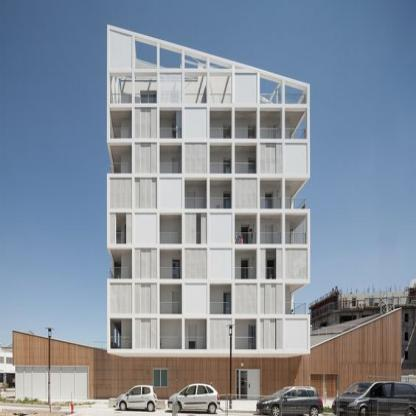Balcony: (108, 162, 132, 174), (160, 232, 182, 245), (210, 128, 233, 140), (109, 267, 131, 279), (235, 162, 257, 174), (160, 162, 182, 174), (185, 197, 207, 209), (210, 162, 232, 174), (210, 197, 232, 209), (260, 197, 282, 209), (285, 302, 307, 314), (235, 267, 257, 279), (160, 267, 182, 279), (210, 302, 232, 314), (160, 302, 182, 314), (160, 337, 182, 349), (235, 337, 257, 349), (185, 337, 207, 349), (285, 128, 308, 139), (235, 128, 258, 139), (260, 128, 283, 139), (285, 197, 306, 209), (111, 337, 132, 349), (160, 128, 182, 139), (110, 128, 132, 139), (110, 93, 132, 104), (135, 93, 157, 104), (185, 93, 207, 104), (209, 93, 231, 104), (260, 93, 281, 104), (285, 93, 305, 104), (116, 233, 126, 244)
Building Outline: (13, 24, 402, 401)
Door: (311, 375, 338, 398), (247, 370, 260, 399), (154, 370, 168, 386), (249, 326, 257, 349), (173, 292, 181, 313), (224, 292, 232, 313), (189, 327, 196, 349), (267, 260, 275, 279), (241, 260, 249, 279), (223, 125, 231, 143), (125, 225, 133, 243), (224, 192, 232, 210), (187, 192, 195, 210), (223, 158, 231, 176), (241, 226, 249, 244), (173, 260, 180, 279), (172, 158, 179, 176), (248, 125, 255, 143), (173, 124, 180, 142), (249, 159, 256, 177), (264, 194, 271, 212)
Facade: (13, 23, 402, 401)
Floor Slab: (107, 350, 310, 353), (107, 104, 310, 107), (107, 139, 310, 142), (107, 174, 310, 177), (107, 209, 310, 212), (107, 245, 310, 248), (107, 280, 310, 283), (107, 315, 310, 318)
Glass Wall: (15, 367, 88, 400), (236, 370, 246, 399)
Window: (285, 283, 310, 315), (285, 177, 310, 209), (107, 142, 132, 173), (107, 249, 132, 280), (135, 36, 157, 69), (235, 143, 258, 174), (260, 108, 283, 139), (285, 108, 308, 139), (210, 143, 233, 174), (260, 178, 283, 209), (109, 73, 132, 104), (134, 73, 157, 104), (185, 73, 208, 104), (210, 73, 233, 104), (235, 108, 258, 139), (210, 108, 233, 139), (160, 108, 183, 139), (109, 108, 132, 139), (160, 143, 183, 174), (210, 178, 233, 209), (185, 178, 208, 209), (260, 214, 283, 245), (160, 214, 183, 245), (160, 249, 183, 280), (235, 249, 258, 280), (235, 214, 258, 245), (210, 284, 233, 315), (160, 284, 183, 315), (235, 319, 258, 350), (285, 214, 308, 245), (260, 73, 282, 104), (160, 319, 182, 350), (111, 319, 132, 350), (159, 44, 182, 69), (285, 80, 307, 104), (184, 52, 207, 69), (265, 249, 276, 280), (116, 214, 126, 244), (141, 94, 156, 111), (209, 61, 232, 69), (196, 214, 201, 245), (235, 67, 244, 69)
